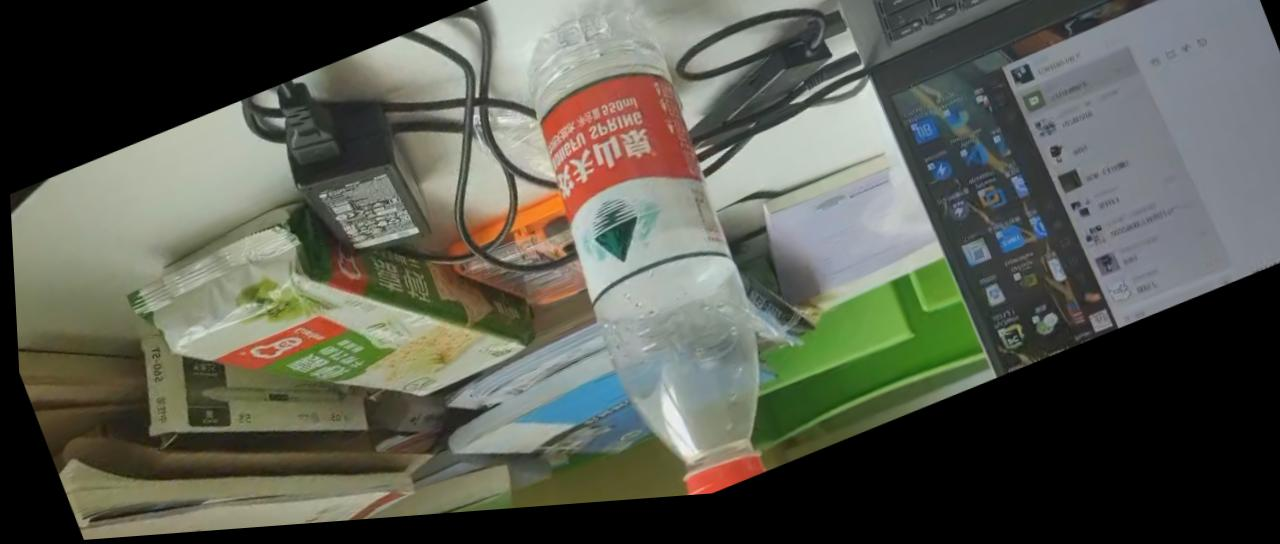plastic: (472, 0, 823, 492)
